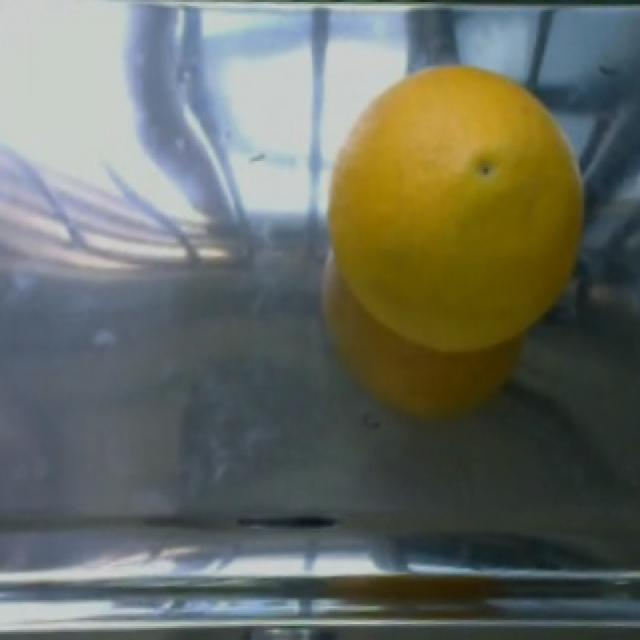Fruit: (318, 52, 590, 390)
